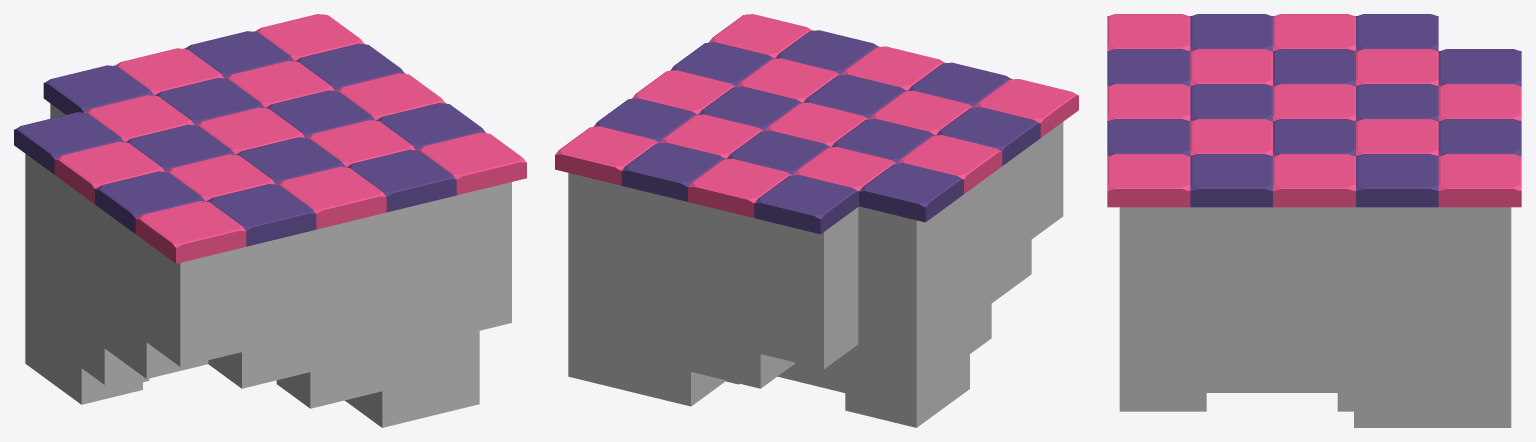
File: big rock 3.fbx
3 renders of one model, left to right at view 1: azimuth 30°, elevation 25°; view 2: azimuth 150°, elevation 25°; view 3: azimuth 270°, elevation 25°, orthographic. The views are drawn at different scales.
Visible parts, largest first — view 1: Cube.047, Cube.107; view 2: Cube.047, Cube.107; view 3: Cube.047, Cube.107.
Part boxes in pixels (x1,y1,x2,y2): Cube.047: (25,103,511,427); Cube.107: (14,14,526,263); Cube.047: (568,122,1063,427); Cube.107: (555,14,1078,234); Cube.047: (1119,207,1511,427); Cube.107: (1107,14,1521,207).
Bounding box in the file's own units: 500 × 325 × 500.
